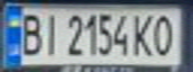1: (81, 10, 100, 56)
2: (63, 10, 84, 56)
4: (112, 11, 133, 56)
5: (96, 10, 115, 56)
B: (15, 10, 45, 56)
I: (39, 10, 63, 56)
K: (130, 11, 157, 57)
O: (151, 11, 181, 57)
